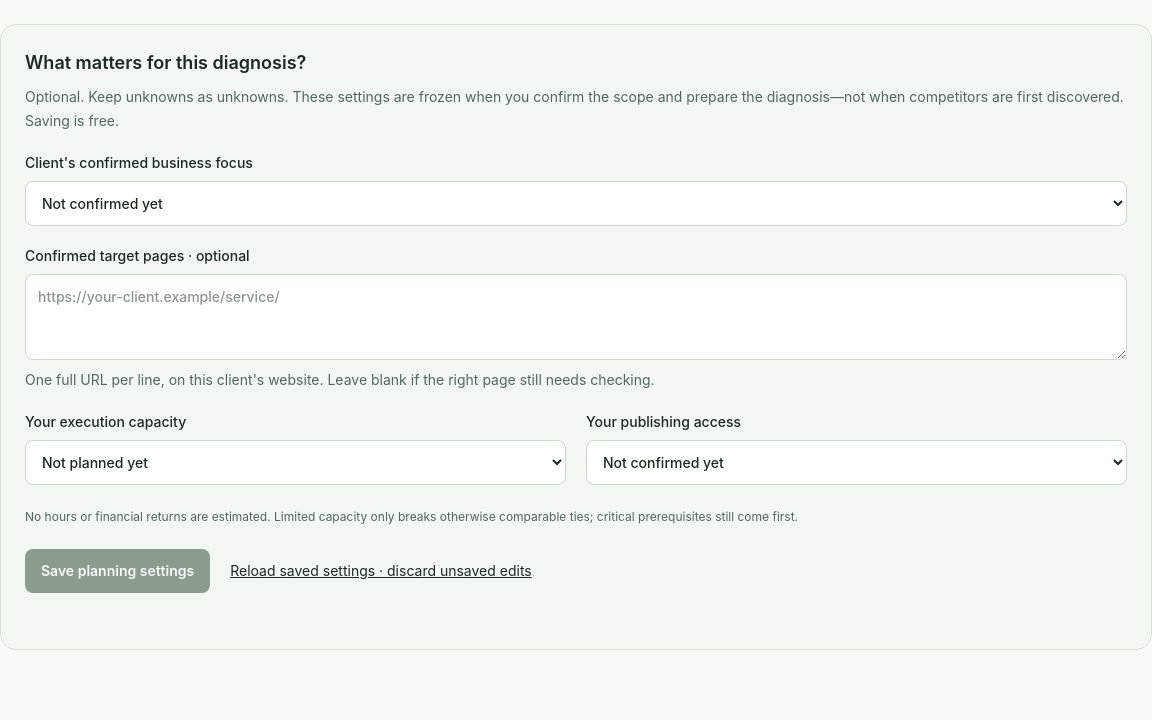
Test: planning settings UI › does not write on mount, marks edits unsaved and confirms the exact saved version
The width and height of the screenshot is (1152, 720).
Select "Clearer contact path" in the dropdown labelled "Client's confirmed business focus" at (576, 204), box [25,181,1127,226]
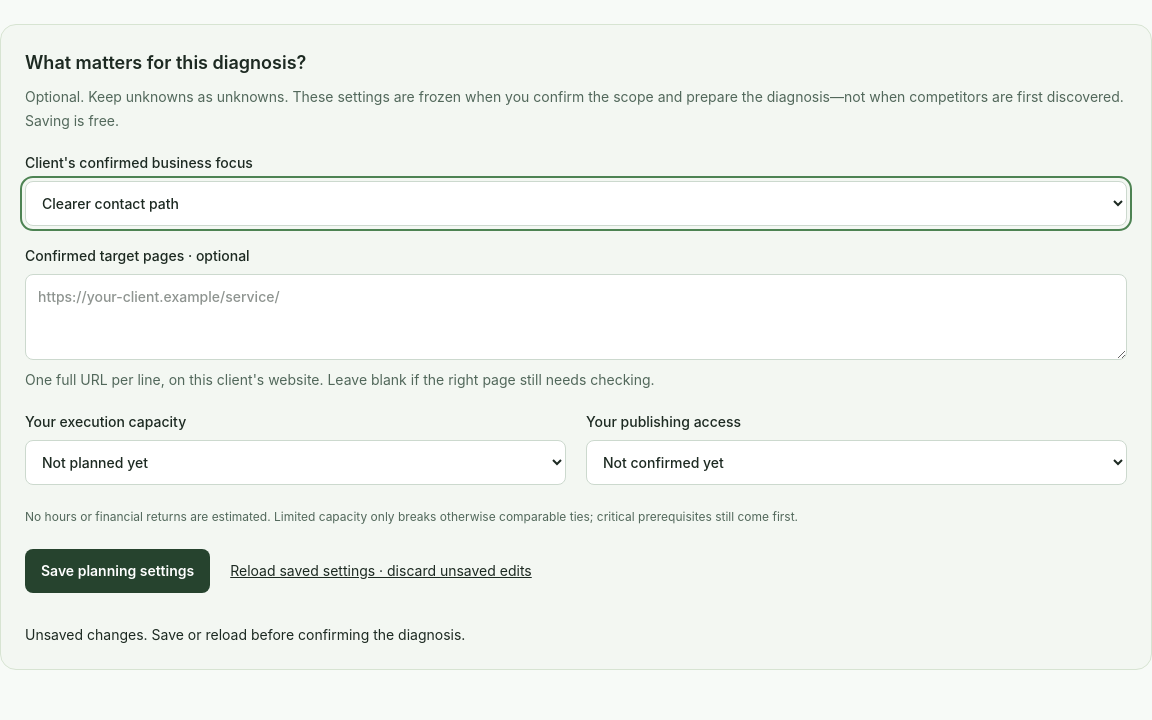
Select "Limited time for changes" in the dropdown labelled "Your execution capacity" at (296, 462), box [25,440,566,485]
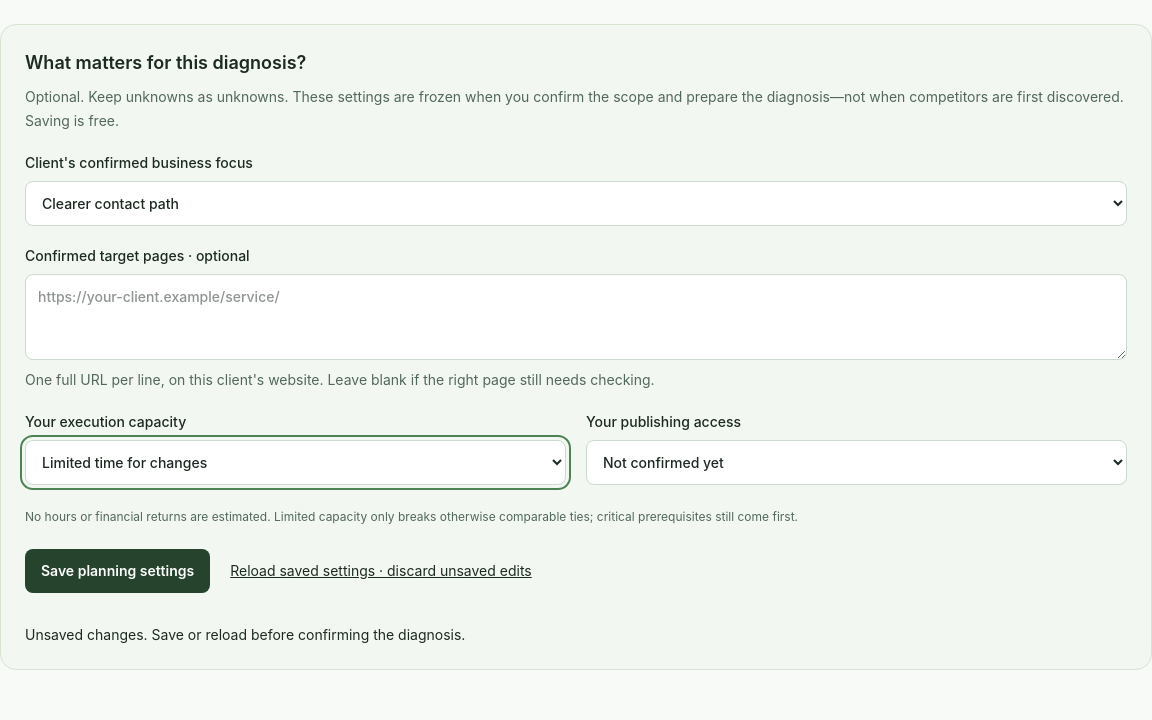
Select "Client approval is needed" in the dropdown labelled "Your publishing access" at (856, 462), box [586,440,1127,485]
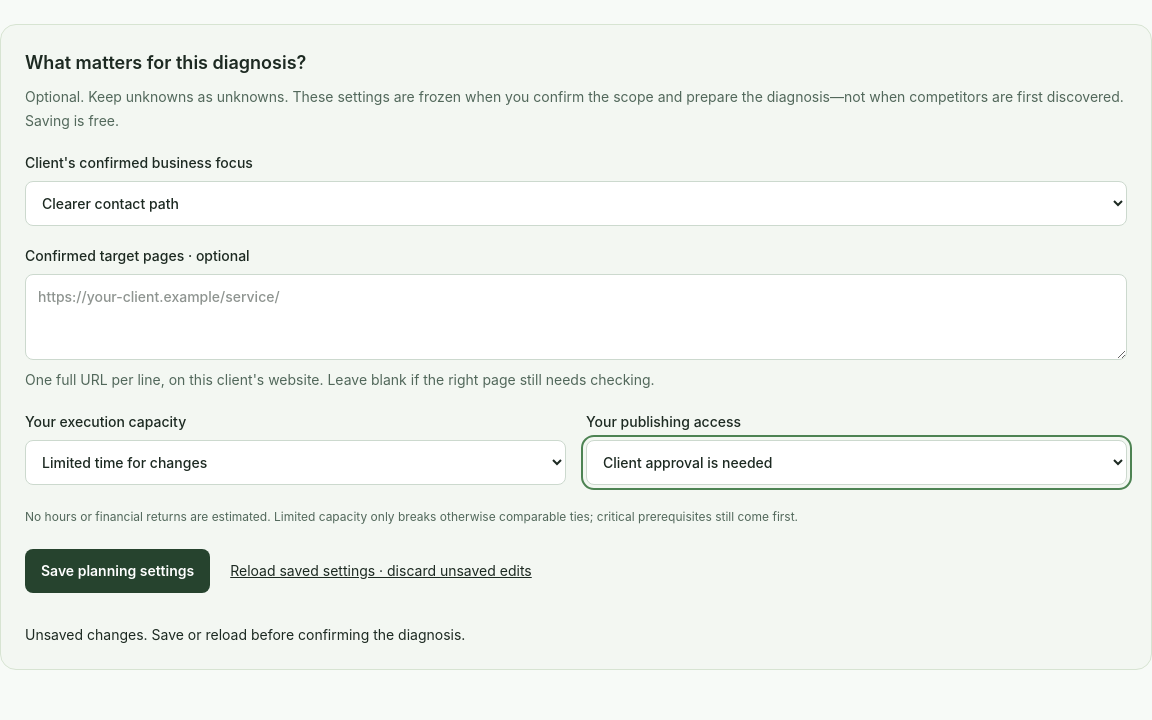
Click the button "Save planning settings" at (118, 571), box [25,549,210,593]
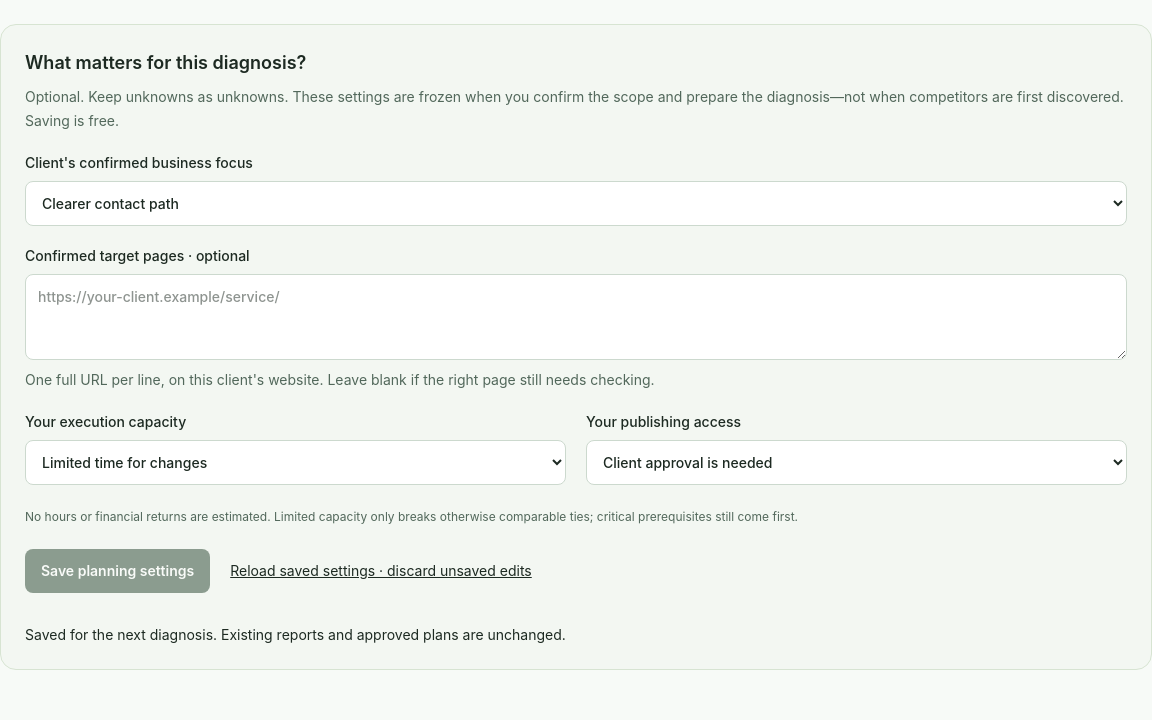
Result: the text "Saved for the next diagnosis" is shown at [25,626,566,643]
